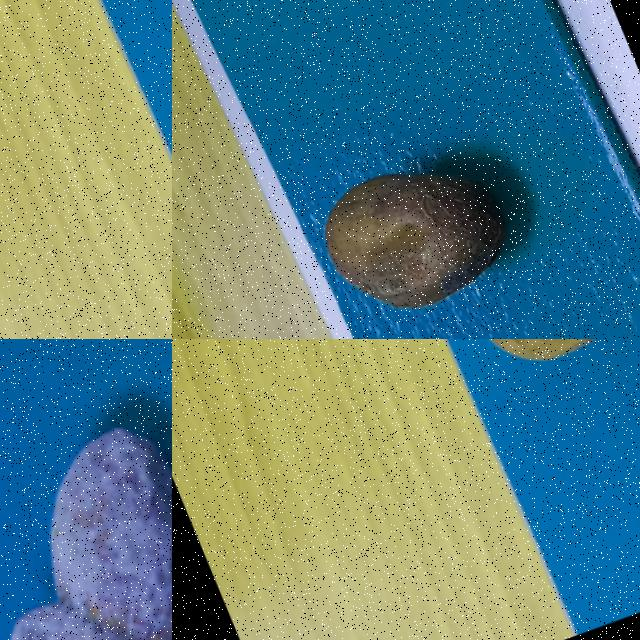Agglomerated_cocoabeans: (0, 339, 171, 639)
Fine_cocoabeans: (215, 19, 589, 338), (389, 339, 639, 462), (102, 0, 171, 211)
